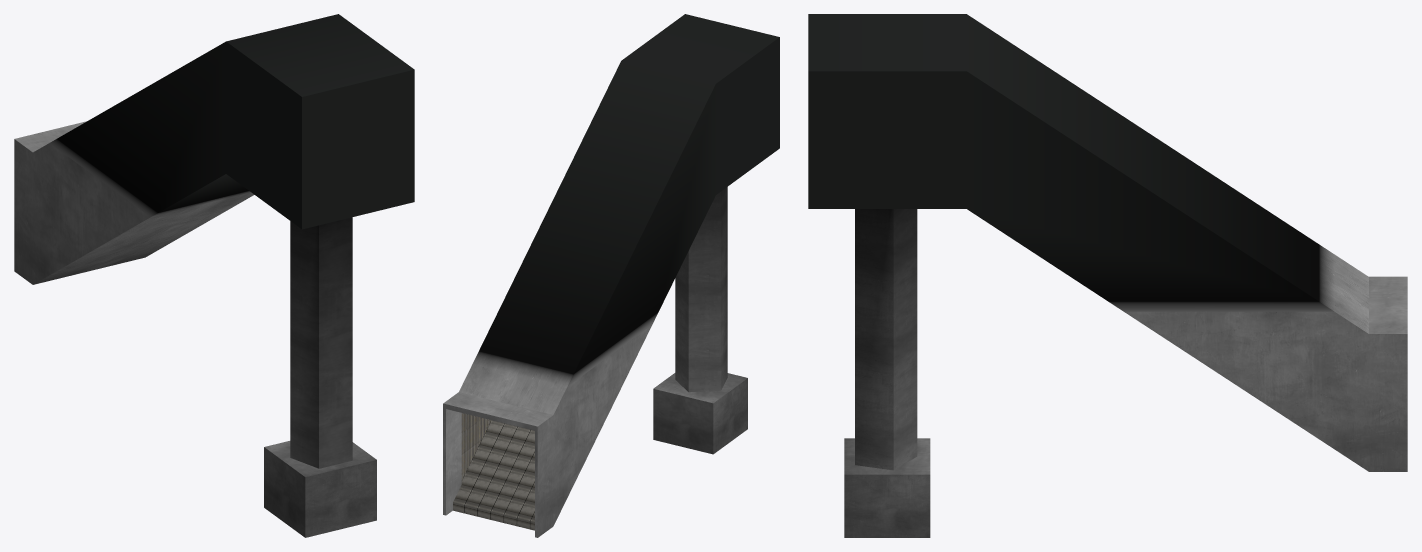
Rendered from AMB_ST_KAIDAN_D4.glb.
The picture shows the model from 3 angles, left to right: view 1: azimuth 30°, elevation 25°; view 2: azimuth 150°, elevation 25°; view 3: azimuth 270°, elevation 25°; orthographic projection. The views are drawn at different scales.
Visible parts, largest first — view 1: BASE; view 2: BASE; view 3: BASE.
Part boxes in pixels (box(x1,y1,x2,y2)): BASE: box(14, 14, 414, 537); BASE: box(443, 14, 779, 537); BASE: box(808, 14, 1407, 537).
Size of the model in its own units: 7.87 by 30.63 by 34.85.
Materials: 4 (4 with a texture image).
